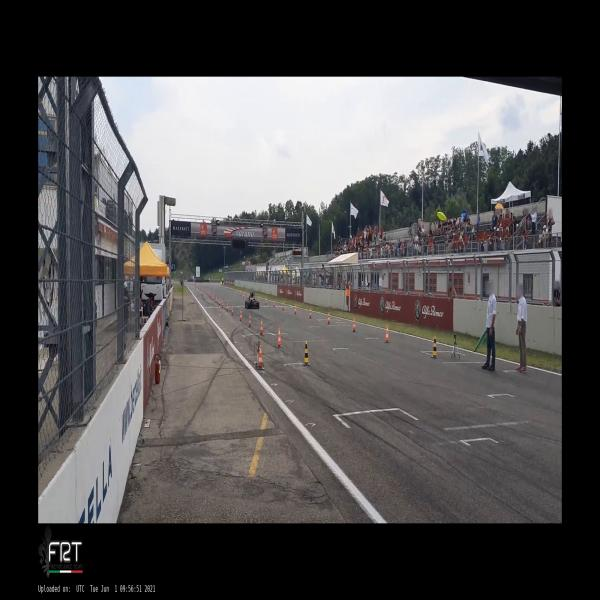large_orange_cone: (257, 346, 264, 370), (384, 324, 390, 343), (277, 328, 282, 347), (260, 318, 264, 336), (352, 317, 356, 332), (248, 314, 252, 328), (239, 308, 243, 322), (327, 312, 331, 325), (309, 308, 313, 320), (231, 304, 234, 316), (226, 302, 229, 312), (294, 306, 297, 314), (282, 302, 284, 311), (273, 300, 275, 308), (222, 300, 224, 308), (219, 299, 221, 306), (215, 296, 217, 303), (212, 294, 214, 300), (210, 294, 212, 300), (208, 292, 210, 298), (265, 299, 267, 305), (244, 292, 245, 299), (232, 288, 233, 294), (236, 290, 237, 295), (204, 288, 205, 293), (208, 292, 209, 296), (240, 292, 241, 296), (248, 294, 248, 299)
unknown_cone: (302, 341, 311, 366), (430, 336, 439, 358)
